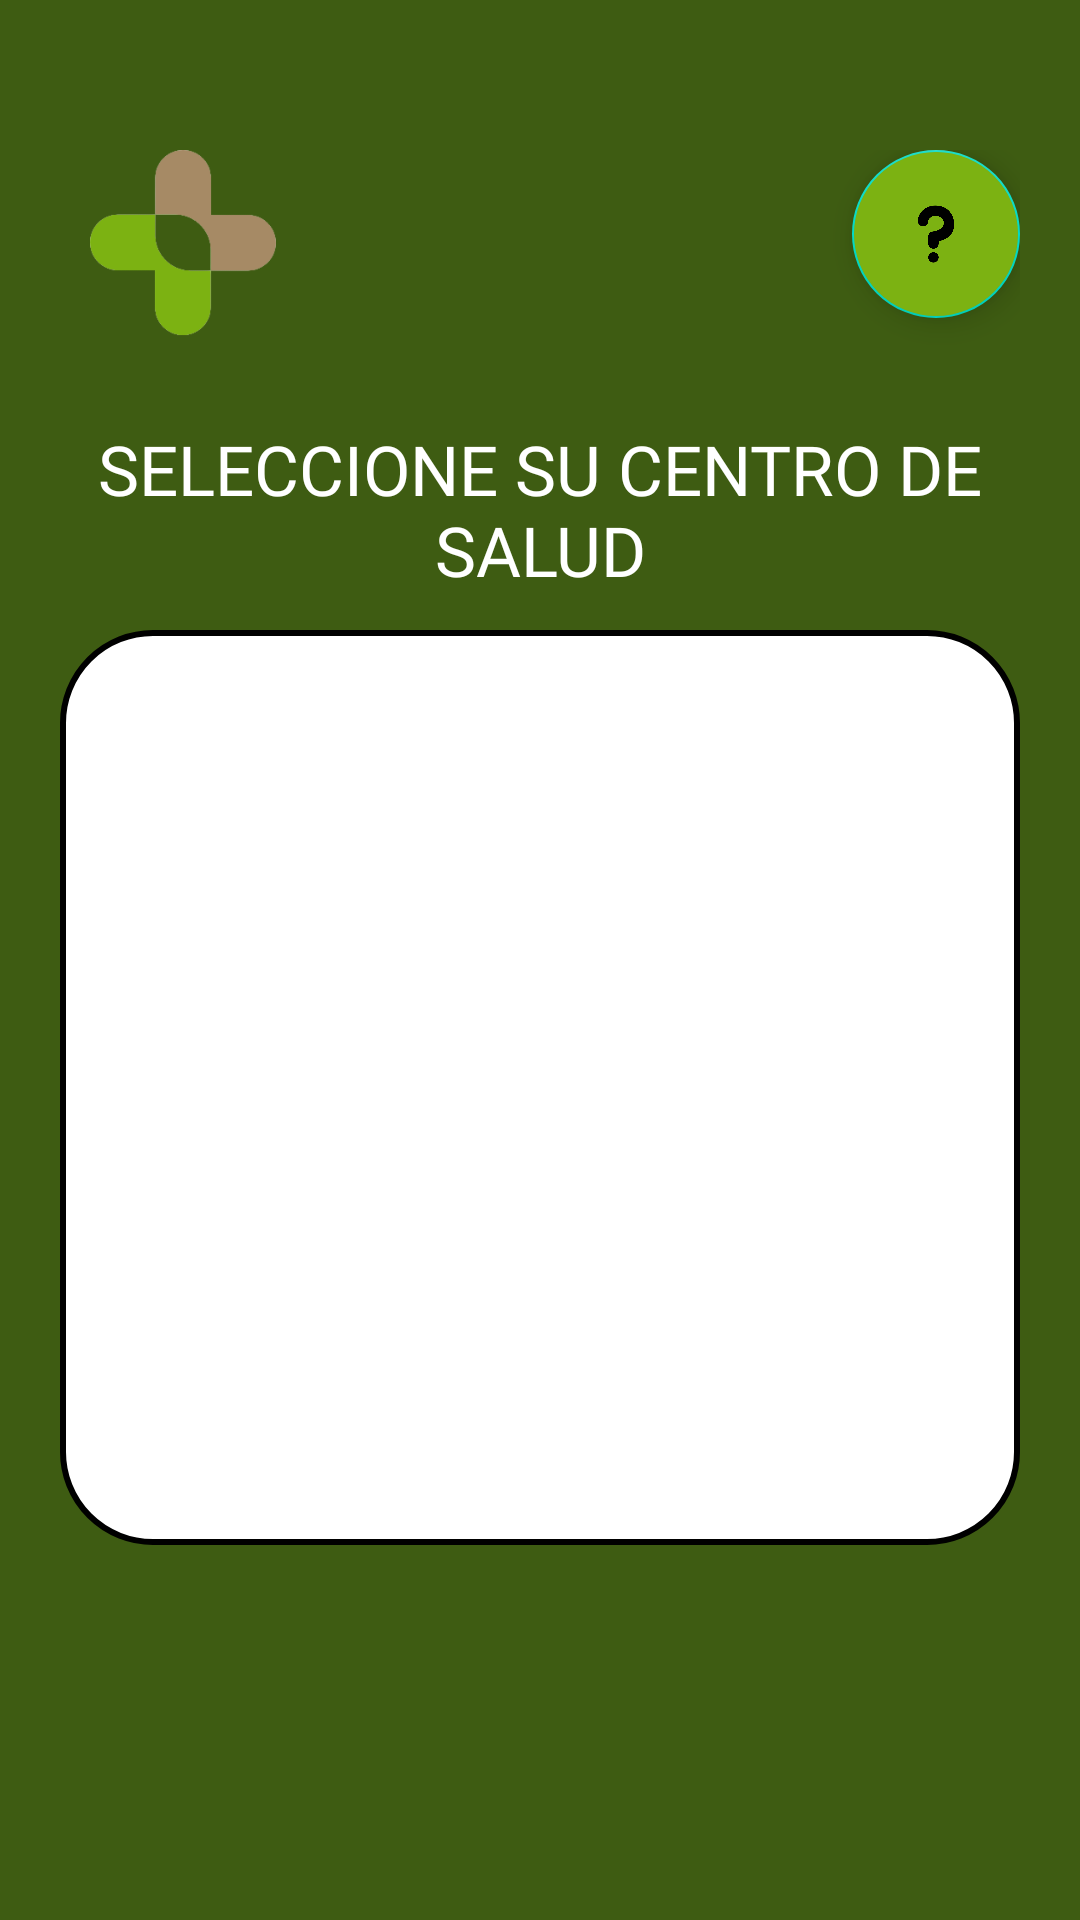

Screen size 1080w x 1920h. Icon name, then its center in pixels as (x,y):
ayuda: (936,234)
